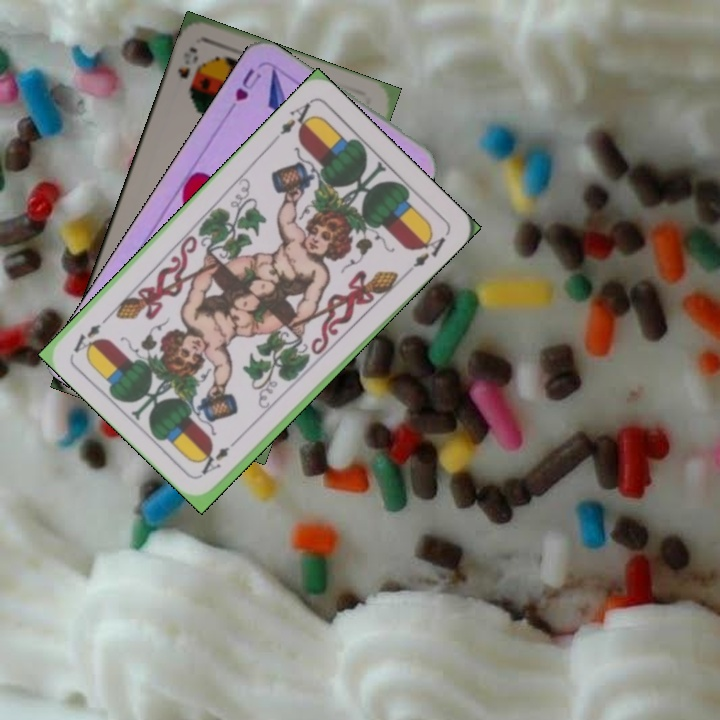EA: (269, 96, 318, 144), (197, 432, 244, 478)
HU: (225, 64, 264, 115)
SO: (173, 43, 202, 82)
